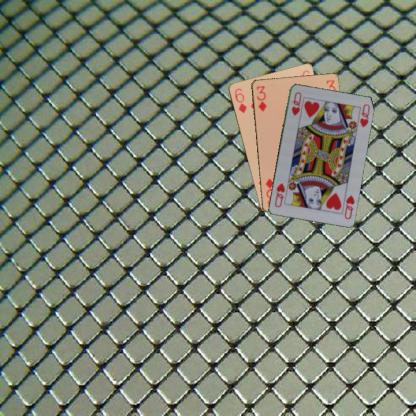3d: (254, 83, 268, 113)
6d: (232, 86, 248, 115)
Qh: (341, 193, 356, 220), (289, 89, 302, 117)
